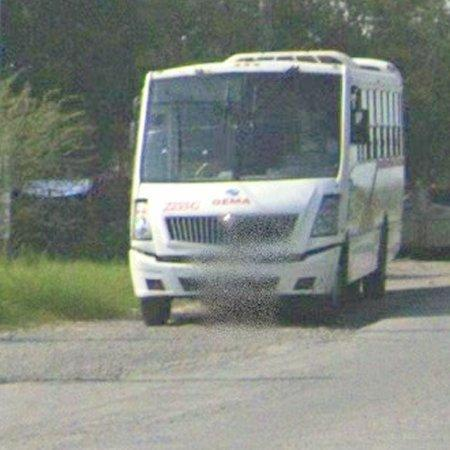buses: (129, 51, 406, 326)
